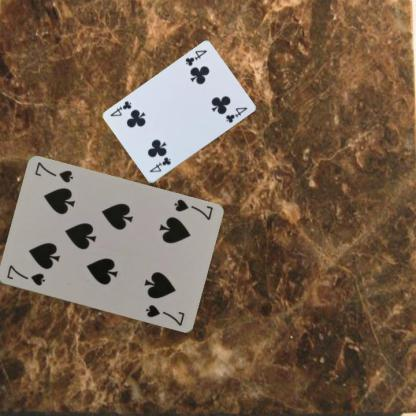4c: (182, 48, 209, 68), (147, 155, 172, 174)
7s: (171, 196, 214, 222), (4, 262, 46, 287)
